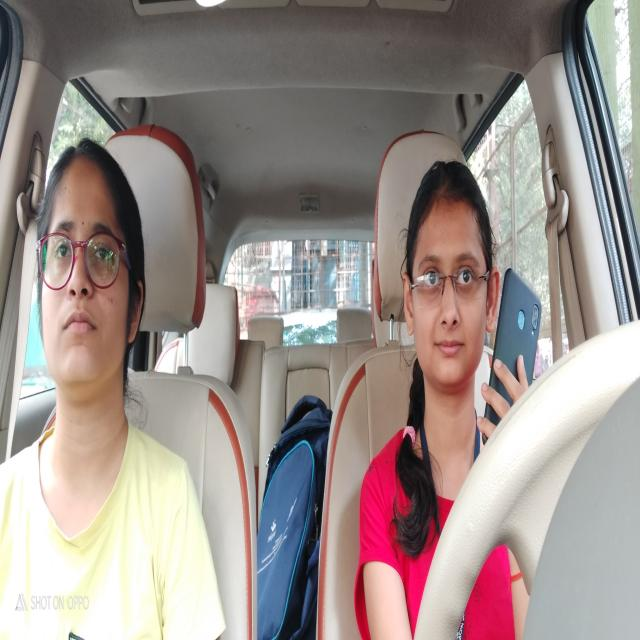mobile: (480, 264, 546, 448)
person: (30, 134, 151, 396), (399, 157, 502, 386)
